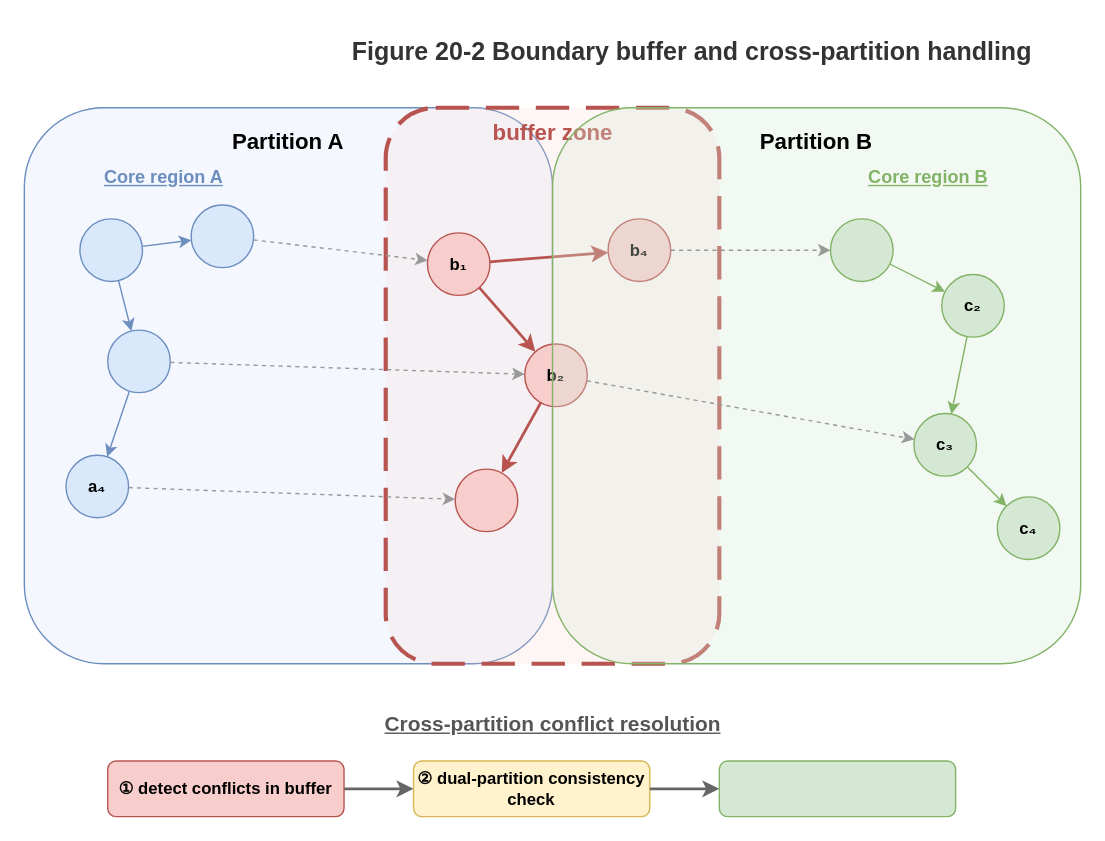
Image size: 1105x841. Some labels were removed from this diagram. Each missing label, with the centre of its shape:
a₁: point (110, 249)
a₂: point (222, 236)
a₃: point (138, 361)
b₃: point (486, 500)
c₁: point (861, 249)
③ primary-partition arbitration: point (837, 788)
